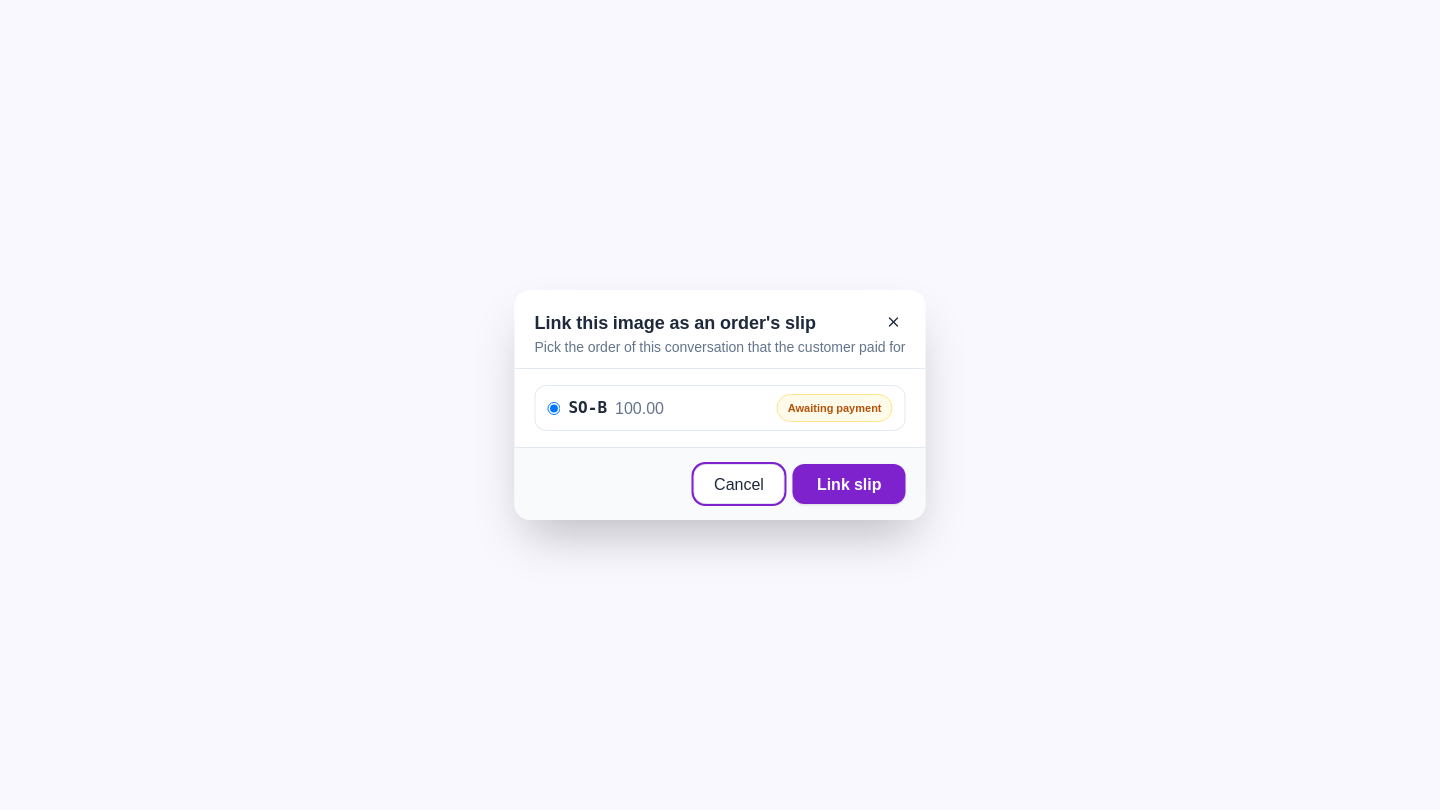
Test: LinkSlipDialog › 409 DUPLICATE_VALUE (ມີຄົນຜູກຮູບນີ້ແລ້ວ): ຂໍ້ຄວາມສະເພາະ ແລະ invalidate slips ຂອງເຄສ (ຟອງຈະກາຍເປັນ Linked)
Check: the radio button labelled "SO-B 100.00 Awaiting payment" is shown, box [548,402,560,414]
Click the button "Link slip" at (849, 484), box [793,464,906,504]
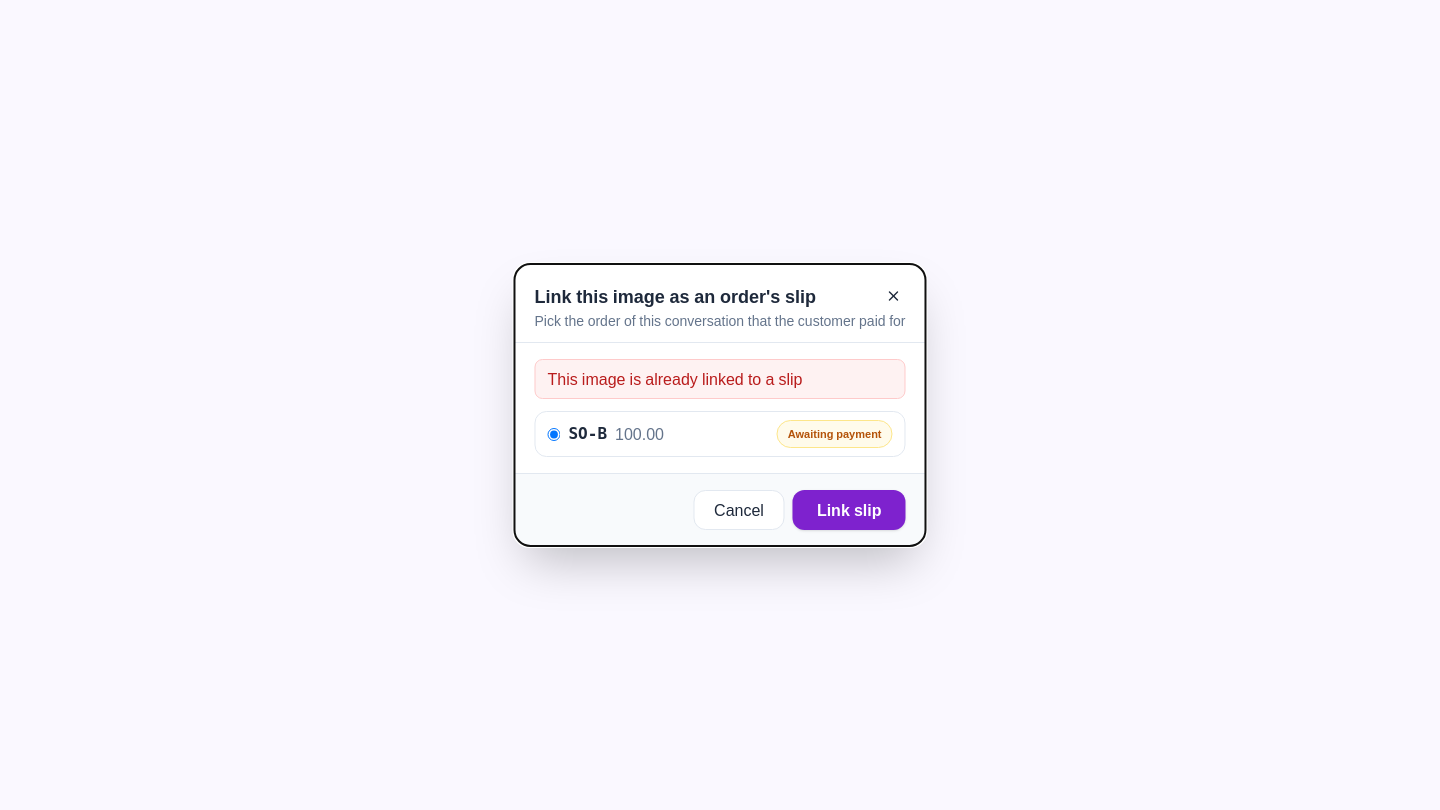
Check: the message reads "This image is already linked to a slip", box [548,366,802,392]
